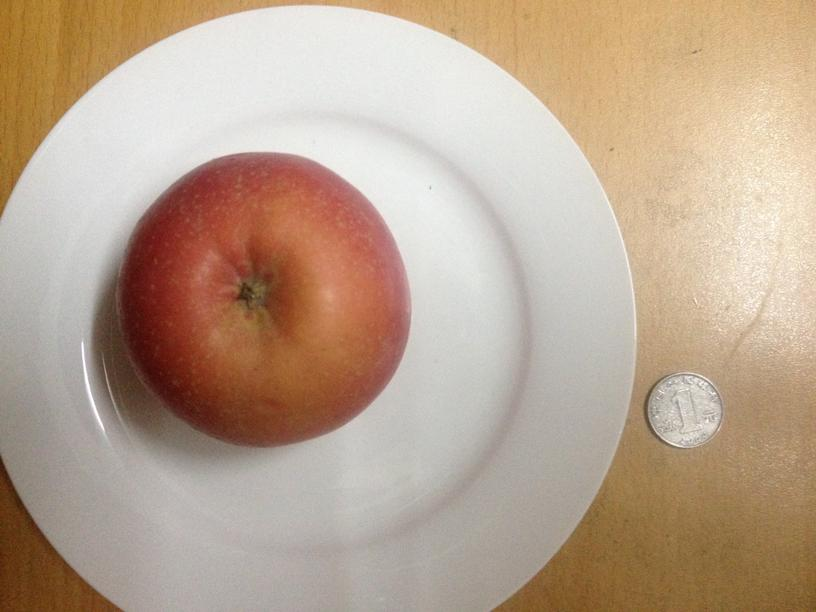apple: (112, 149, 410, 447)
coin: (648, 368, 723, 448)
